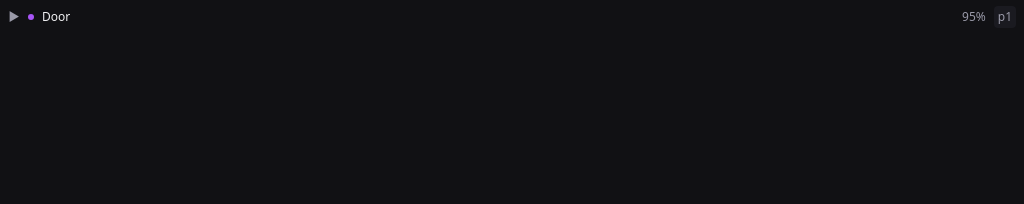
Test case: AnnotationListItem note-save freeze › PUTs normalized note/data, merges server CSI codes, and publishes the saved row locally
Later steps or results of the test are not shown.
Click the button "▶".
click(14, 17)  # box [8, 8, 20, 26]
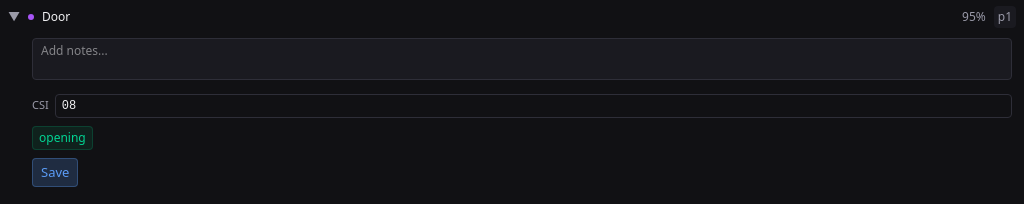
Type "Revised hardware note" into the text box with placeholder "Add notes...".
click(522, 59); type("Revised hardware note")  # box [32, 38, 1012, 80]
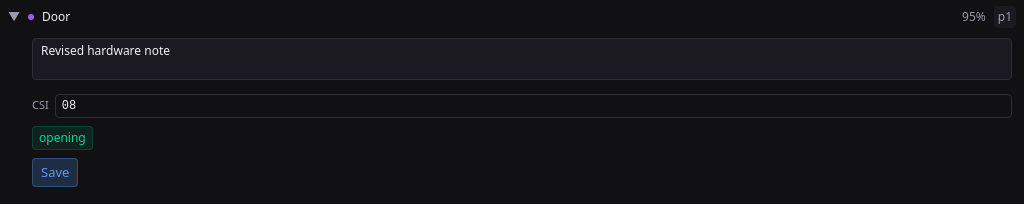
Replace the text in the field with placeholder "e.g. 08, 08 11 16, 080000" with "8, 081116" at point(533, 106), box [55, 94, 1012, 118]
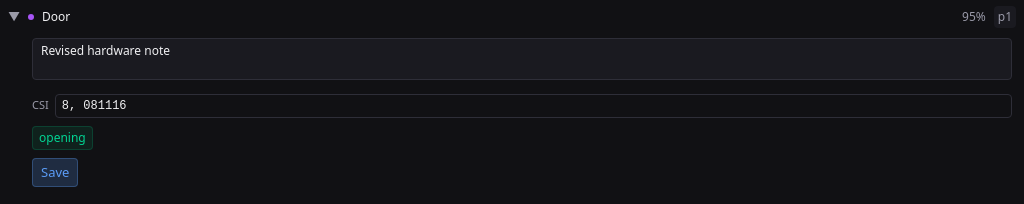
Click the button "Save".
click(55, 172)  # box [32, 158, 78, 187]
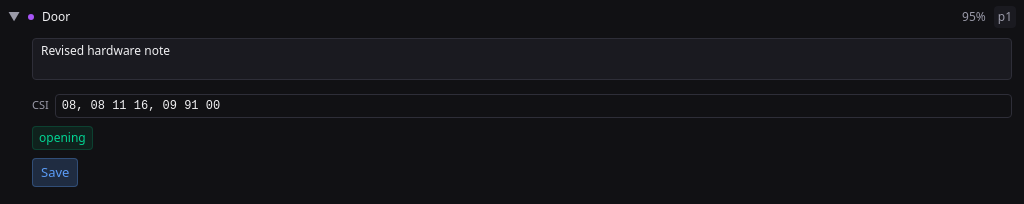
Now the button "Save" is enabled, box [32, 158, 78, 187]
Now the field with placeholder "e.g. 08, 08 11 16, 080000" holds "08, 08 11 16, 09 91 00", box [55, 94, 1012, 118]
